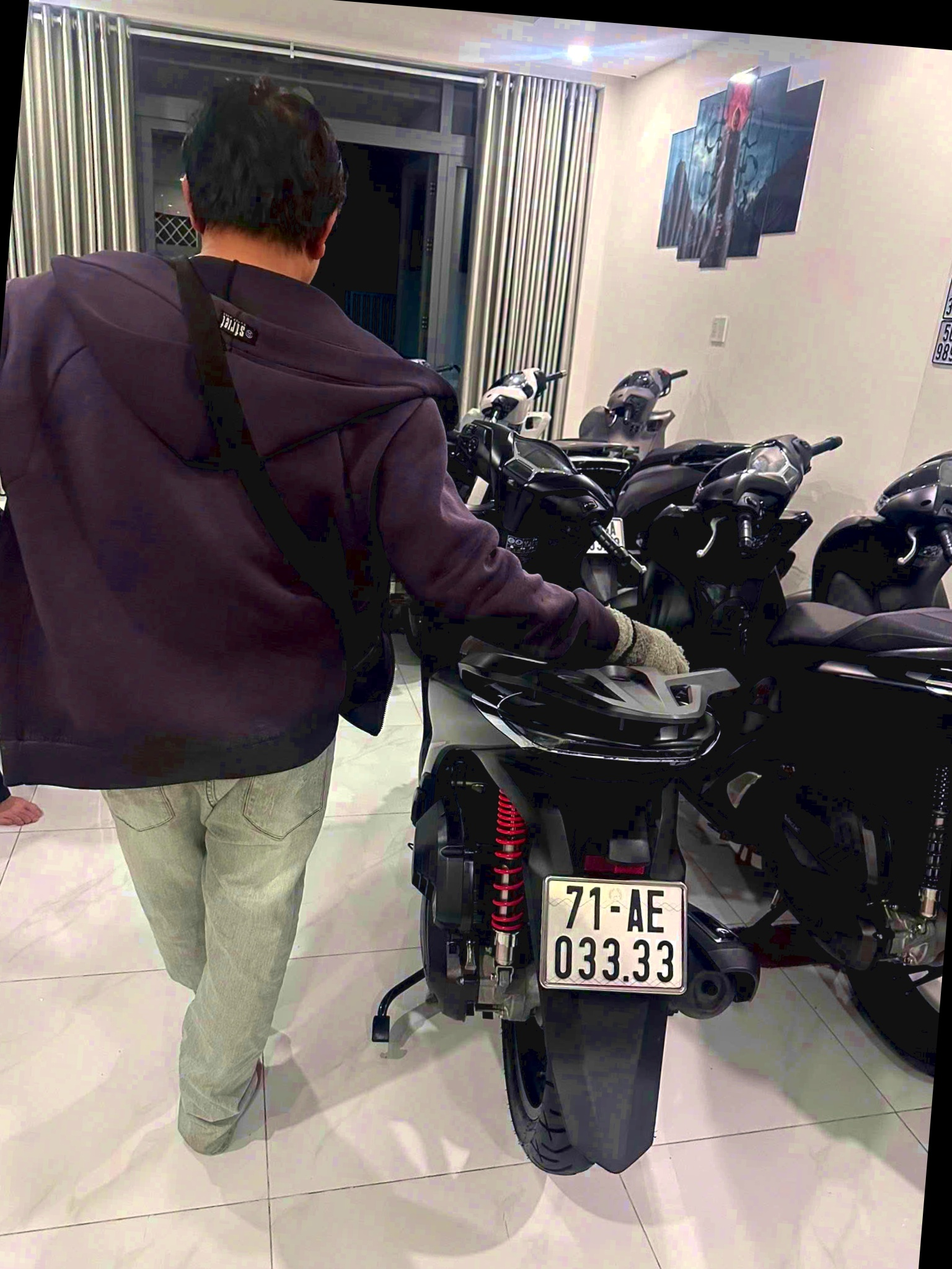Bien-so: (537, 871, 691, 995)
